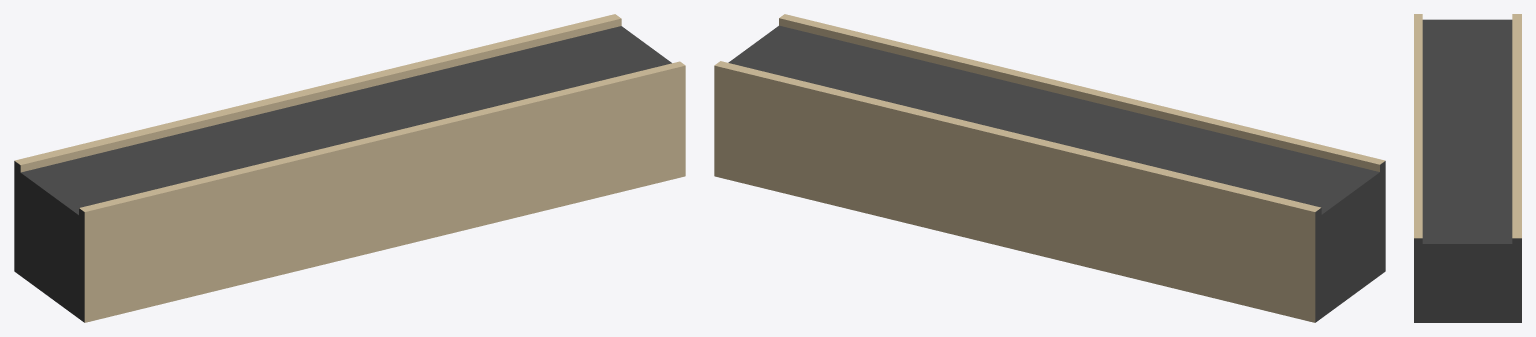
The model's file is EstradaPontaCentral.fbx.
The picture shows the model from 3 angles, left to right: view 1: azimuth 30°, elevation 25°; view 2: azimuth 150°, elevation 25°; view 3: azimuth 270°, elevation 25°; orthographic projection. The views are drawn at different scales.
Parts seen in each view (by area): view 1: Cube.018; view 2: Cube.018; view 3: Cube.018.
Part boxes in pixels (x1,y1,x2,y2): Cube.018: [14, 14, 685, 322]; Cube.018: [714, 14, 1385, 322]; Cube.018: [1414, 14, 1521, 322].
Size of the model in its own units: 167 by 29.42 by 33.92.
